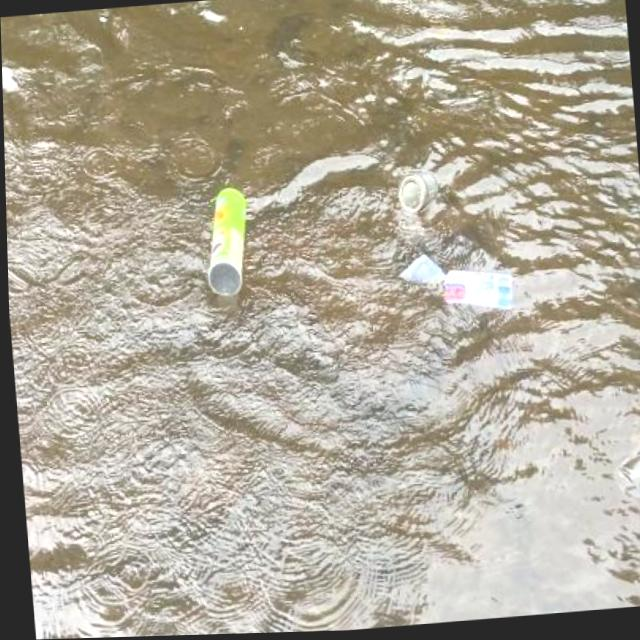Can-Metal: (187, 179, 258, 308), (382, 163, 446, 228)
Plastic: (389, 242, 520, 332)
